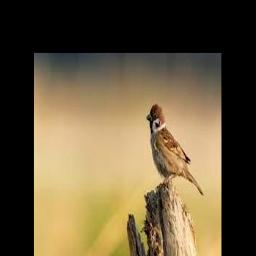Sparrow: (147, 104, 204, 196)
